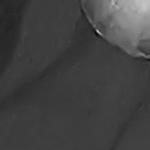colony: (72, 0, 150, 81)
